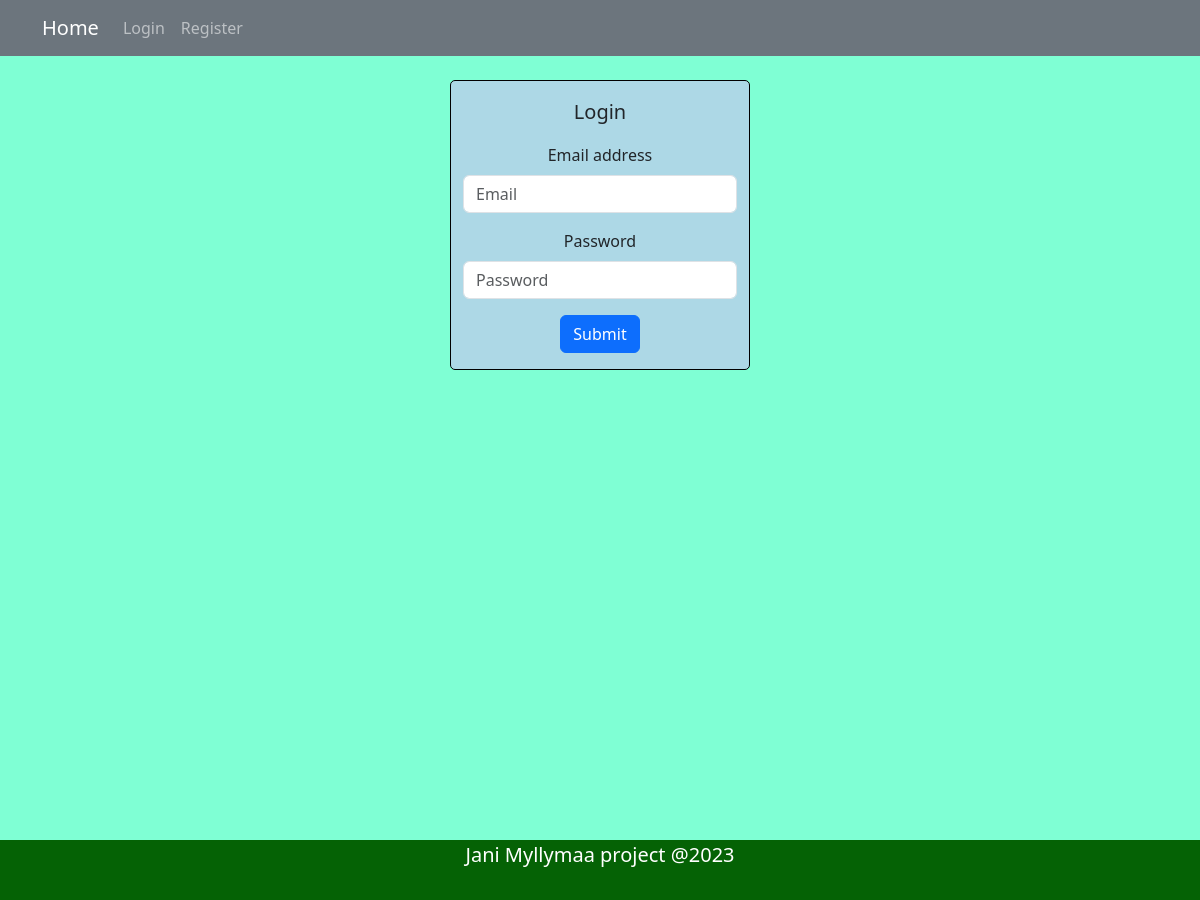
Test case: User routes tests › Try to login with with false input
In the field with placeholder "Email": (600,194) [463,175,737,213], type "testguy"
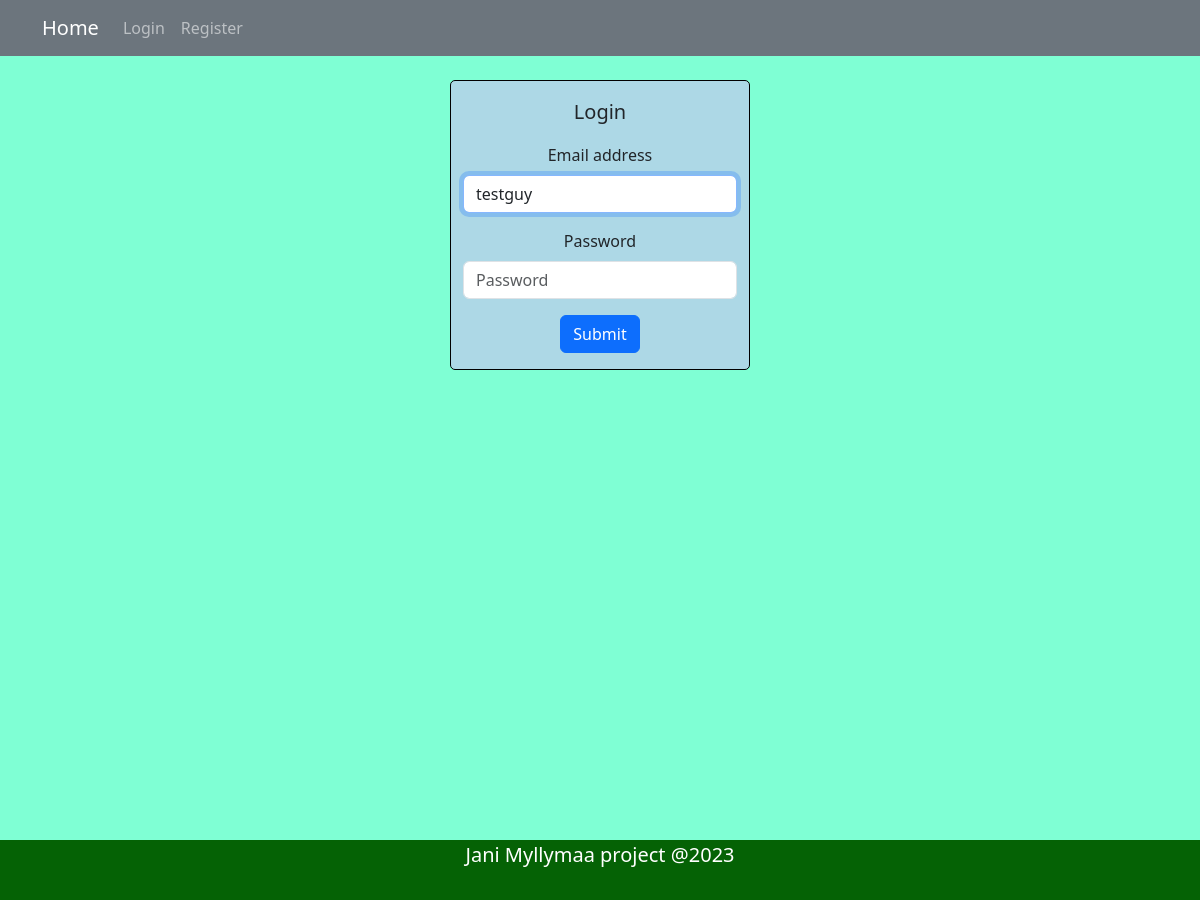
In the password field with placeholder "Password": (600,280) [463,261,737,299], type "pass"
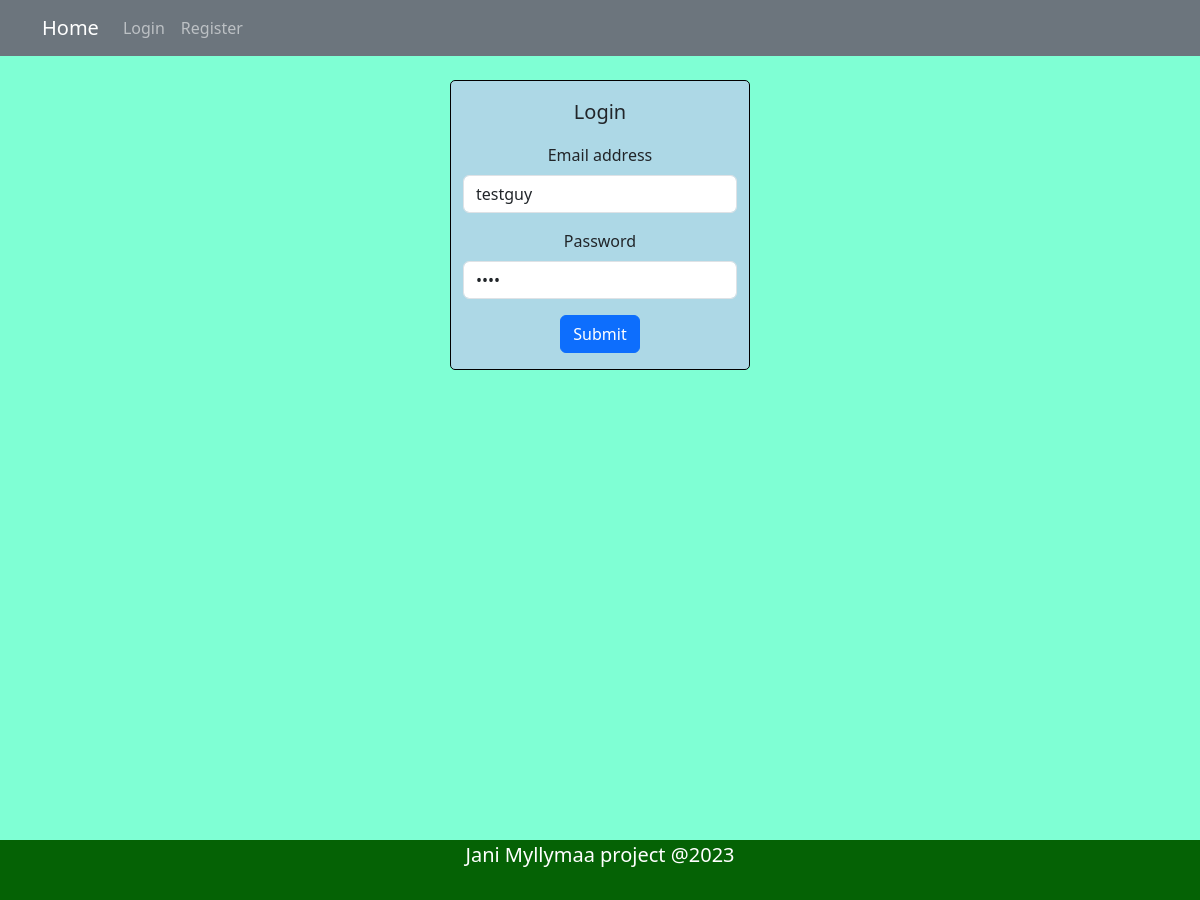
Click the submit button: (600,334) [560,315,639,353]
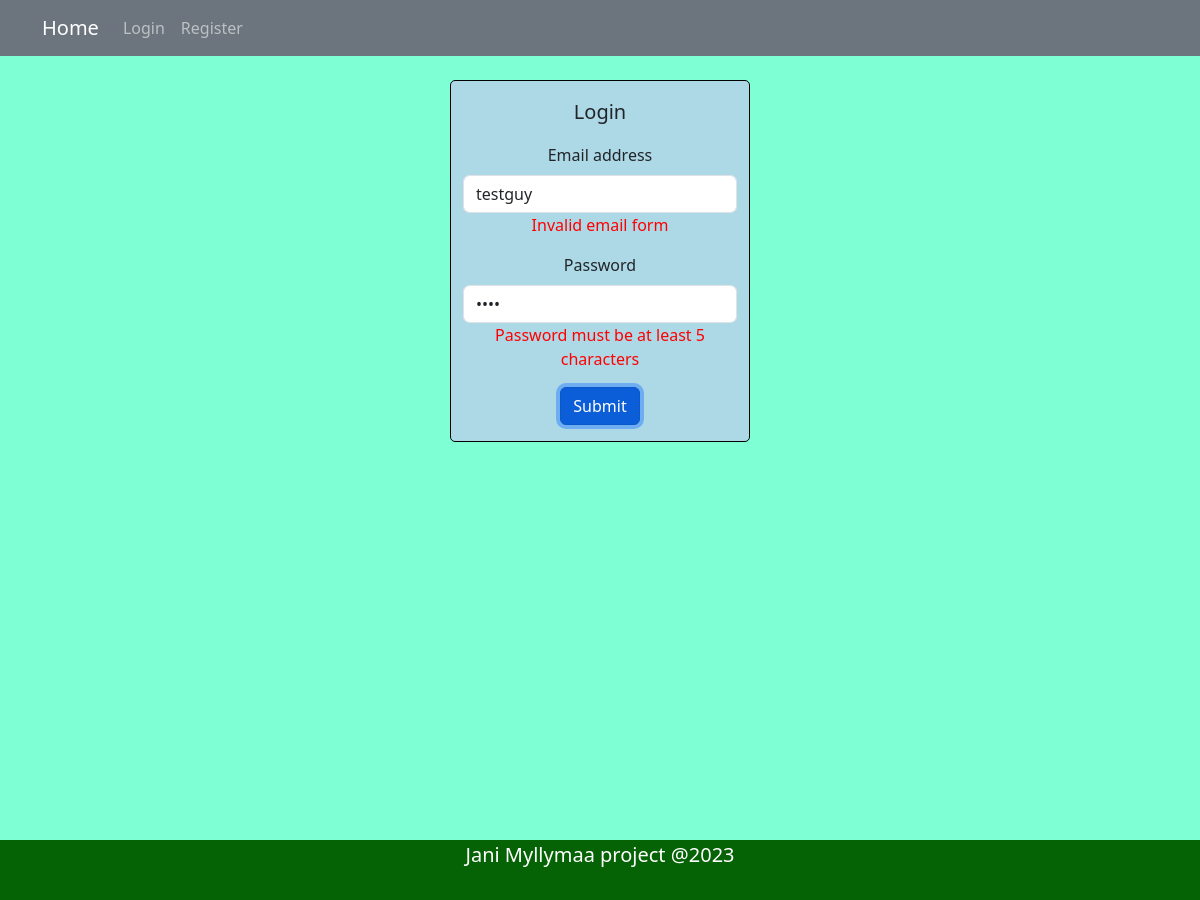
Now the text "Password must be at least 5 characters" is shown, box [495,324,705,370]
Now the text "Invalid email form" is shown, box [532,214,668,236]
